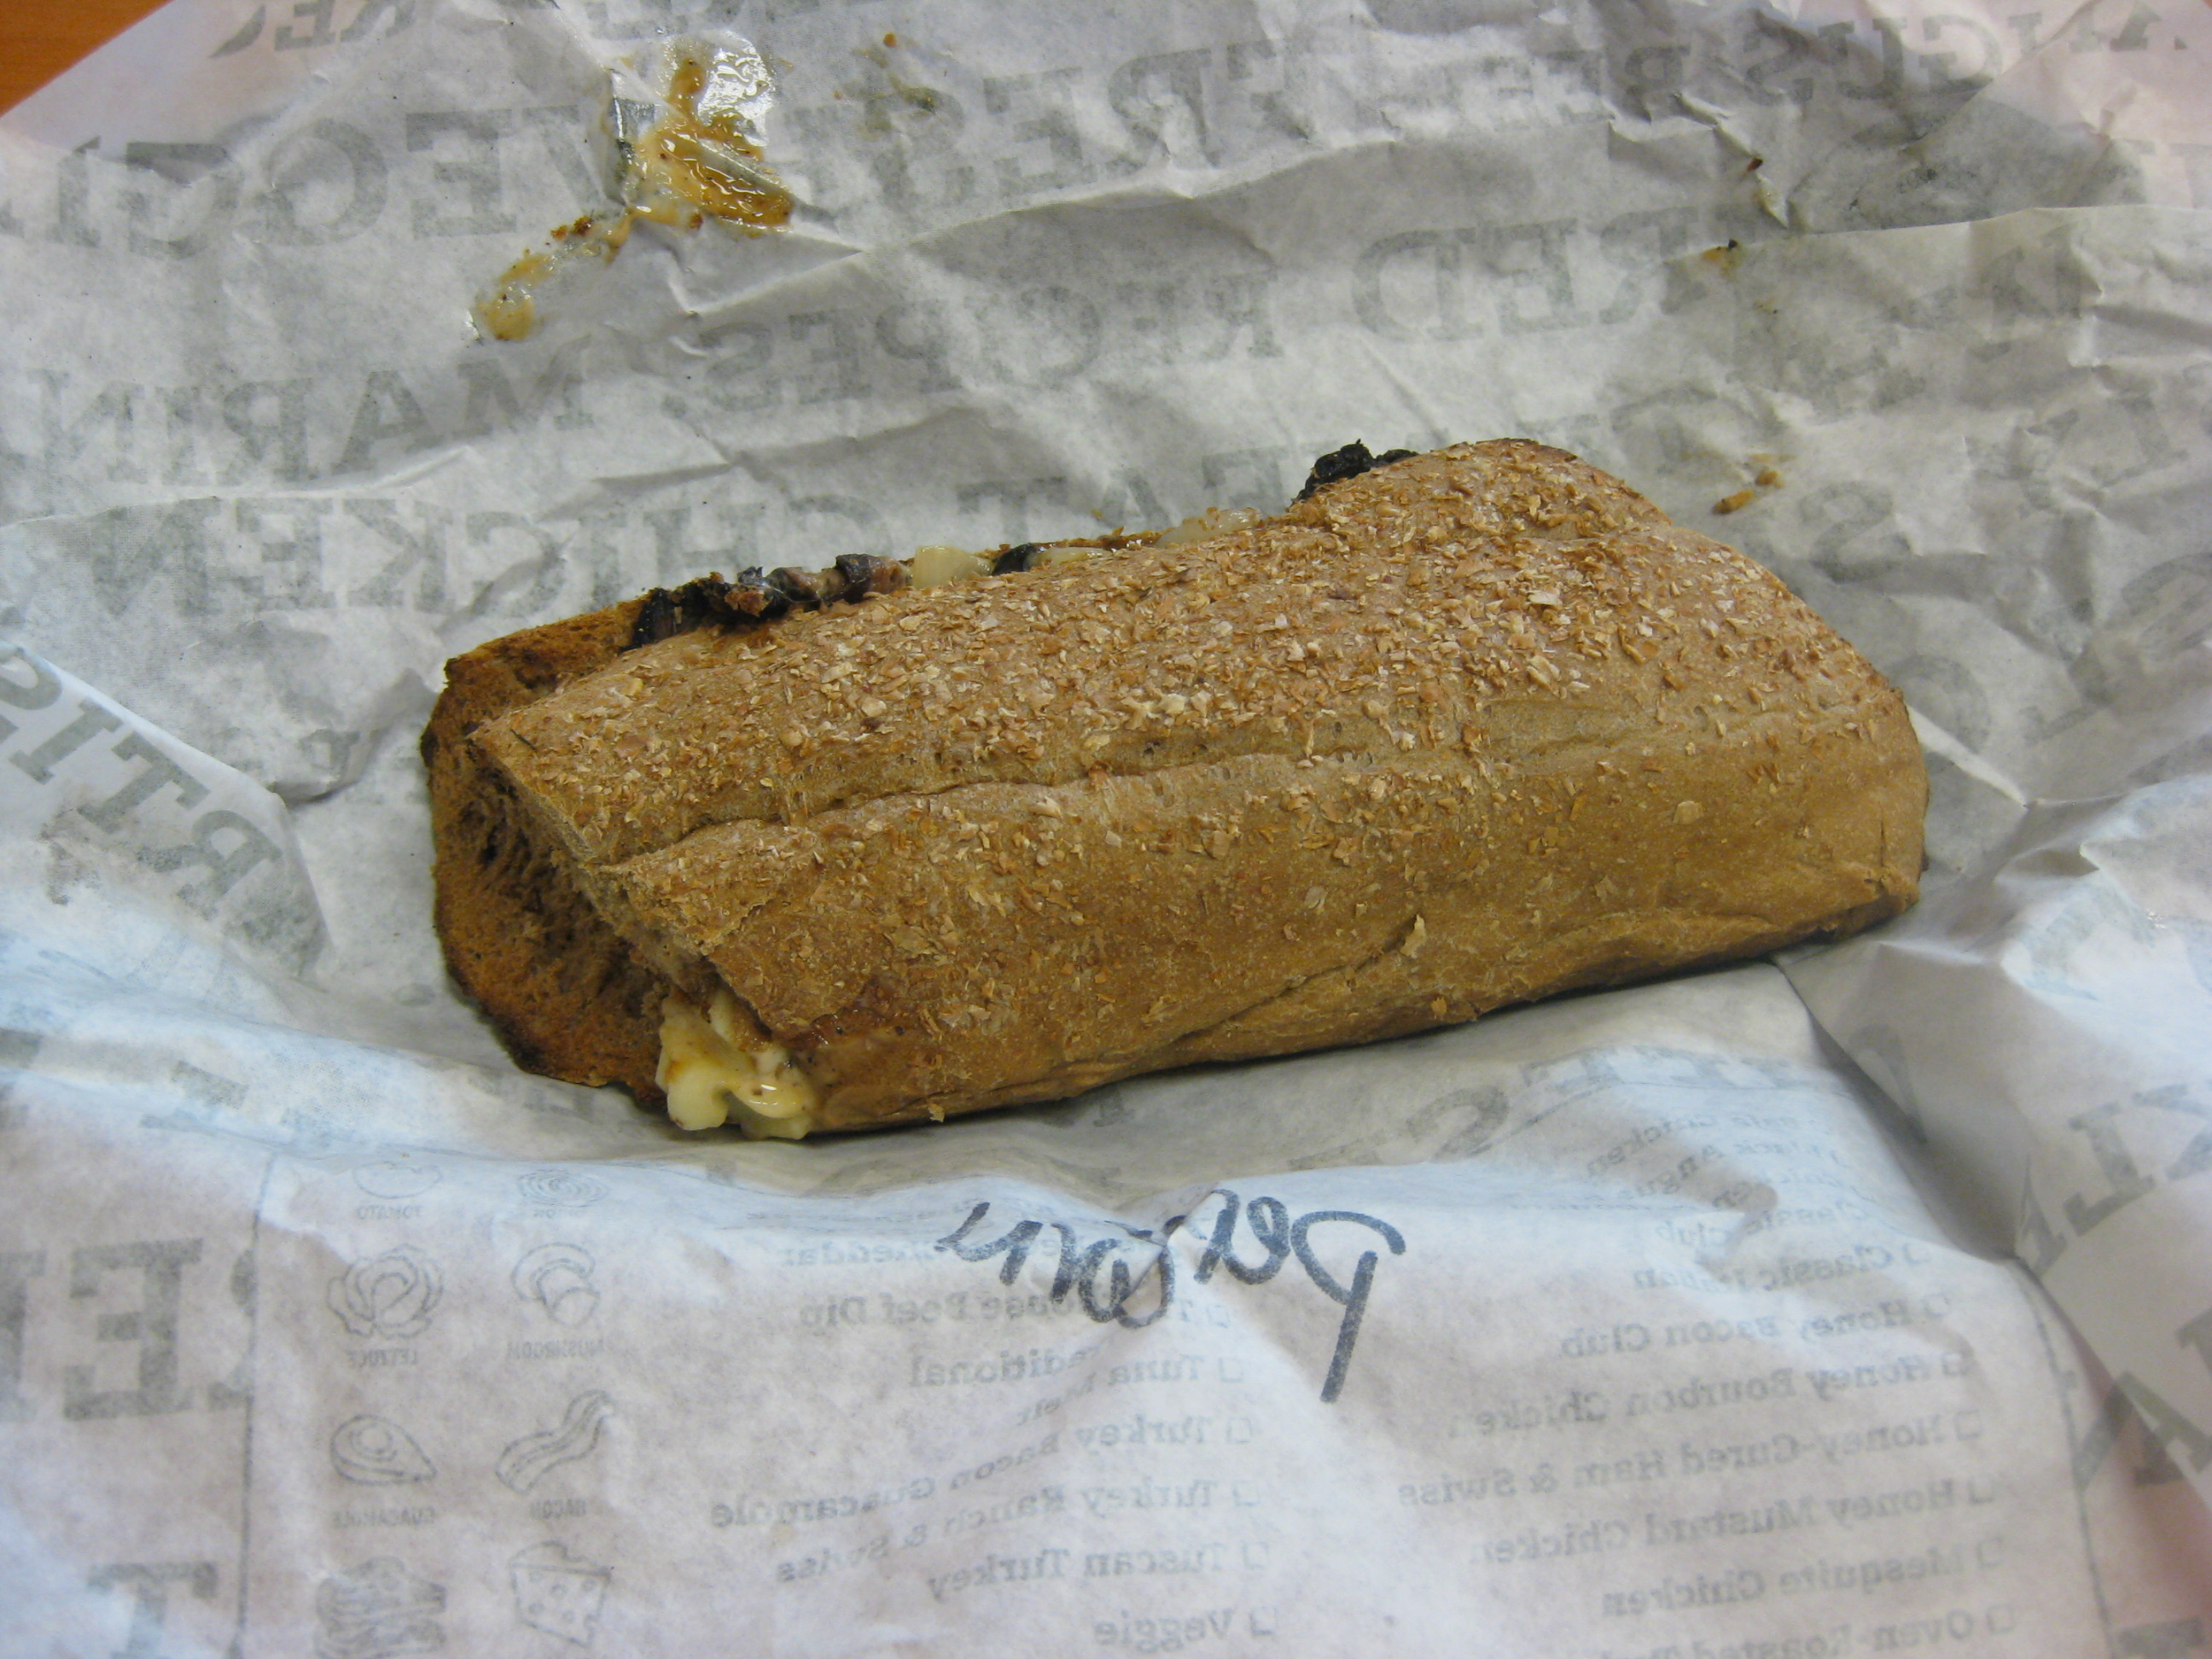sub: (366, 433, 1943, 1202)
